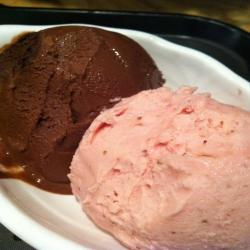icecream: (67, 78, 250, 249), (1, 24, 172, 203)
